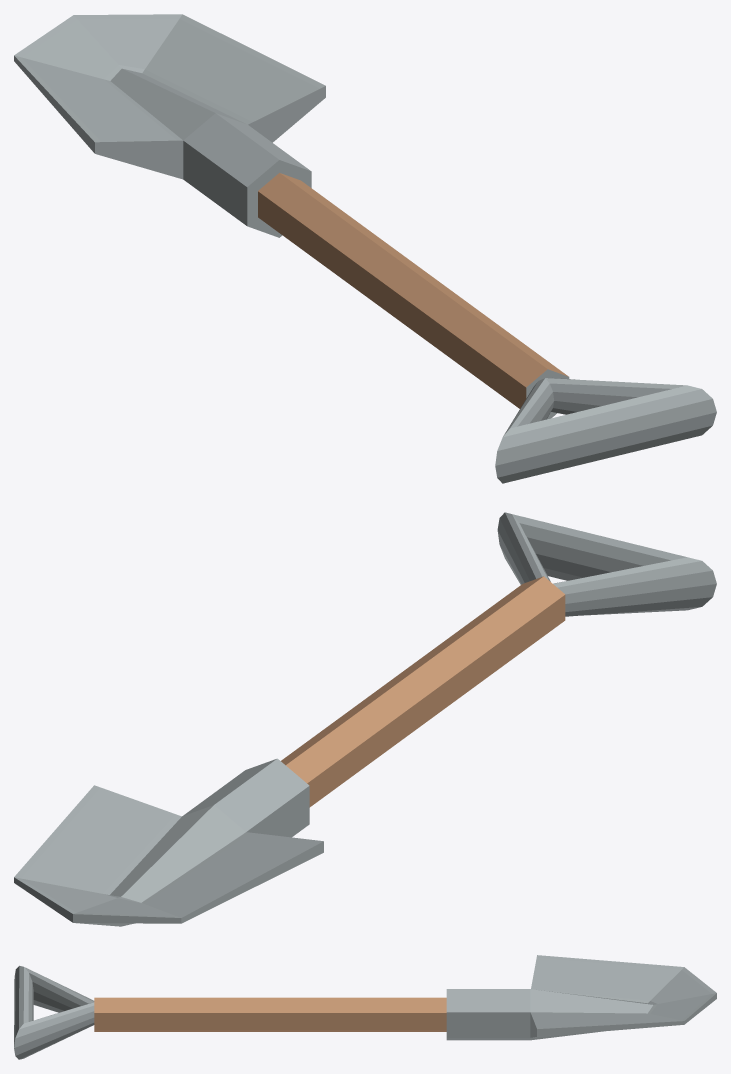
Rendered from shovel.fbx.
3 renders of one model, top to bottom at view 1: azimuth 30°, elevation 25°; view 2: azimuth 150°, elevation 25°; view 3: azimuth 270°, elevation 25°, orthographic. The views are drawn at different scales.
Parts seen in each view (by area): view 1: Cylinder; view 2: Cylinder; view 3: Cylinder.
Part boxes in pixels (left/top/right/bottom): Cylinder: left=14, top=14, right=716, bottom=483; Cylinder: left=14, top=512, right=716, bottom=926; Cylinder: left=14, top=955, right=716, bottom=1059.
Size of the model in its own units: 620 by 200 by 2487.
